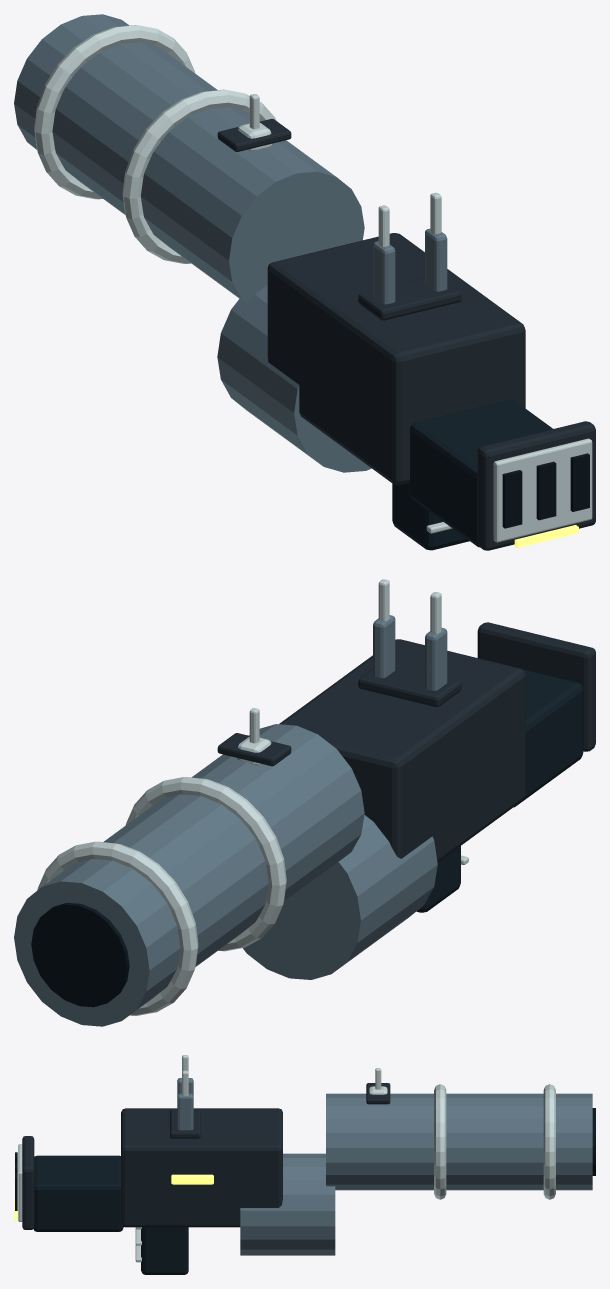
Rendered from weapon-5.glb.
3 views of the same model, one above another, from view 1: azimuth 30°, elevation 25°; view 2: azimuth 150°, elevation 25°; view 3: azimuth 270°, elevation 25° (orthographic). The views are drawn at different scales.
Visible parts, largest first — view 1: body-dark, barrel-assembly-light, body-trim, body-rubber, feed-light, body-cavity, body-light; view 2: barrel-assembly-light, body-dark, feed-light, body-trim, barrel-assembly-cavity, body-rubber, body-light; view 3: barrel-assembly-light, body-dark, body-rubber, feed-light, body-trim, body-light, body-glow.
Part boxes in pixels (x1=…): body-dark: x1=217, y1=119, x2=595, y2=550; barrel-assembly-light: x1=14, y1=14, x2=364, y2=303; body-trim: x1=34, y1=25, x2=592, y2=542; body-rubber: x1=392, y1=400, x2=552, y2=550; feed-light: x1=217, y1=285, x2=371, y2=472; body-cavity: x1=502, y1=453, x2=589, y2=528; body-light: x1=373, y1=228, x2=447, y2=304; barrel-assembly-light: x1=14, y1=724, x2=364, y2=1026; body-dark: x1=217, y1=622, x2=595, y2=862; feed-light: x1=243, y1=815, x2=437, y2=979; body-trim: x1=37, y1=579, x2=468, y2=1015; barrel-assembly-cavity: x1=31, y1=902, x2=129, y2=1007; body-rubber: x1=416, y1=669, x2=583, y2=912; body-light: x1=373, y1=615, x2=447, y2=690; barrel-assembly-light: x1=326, y1=1093, x2=592, y2=1190; body-dark: x1=22, y1=1083, x2=390, y2=1229; body-rubber: x1=33, y1=1155, x2=188, y2=1274; feed-light: x1=240, y1=1153, x2=335, y2=1255; body-trim: x1=18, y1=1055, x2=555, y2=1262; body-light: x1=177, y1=1078, x2=193, y2=1130; body-glow: x1=14, y1=1174, x2=213, y2=1220.
Bounding box in the file's own units: 0.244 × 0.4645 × 1.22.
